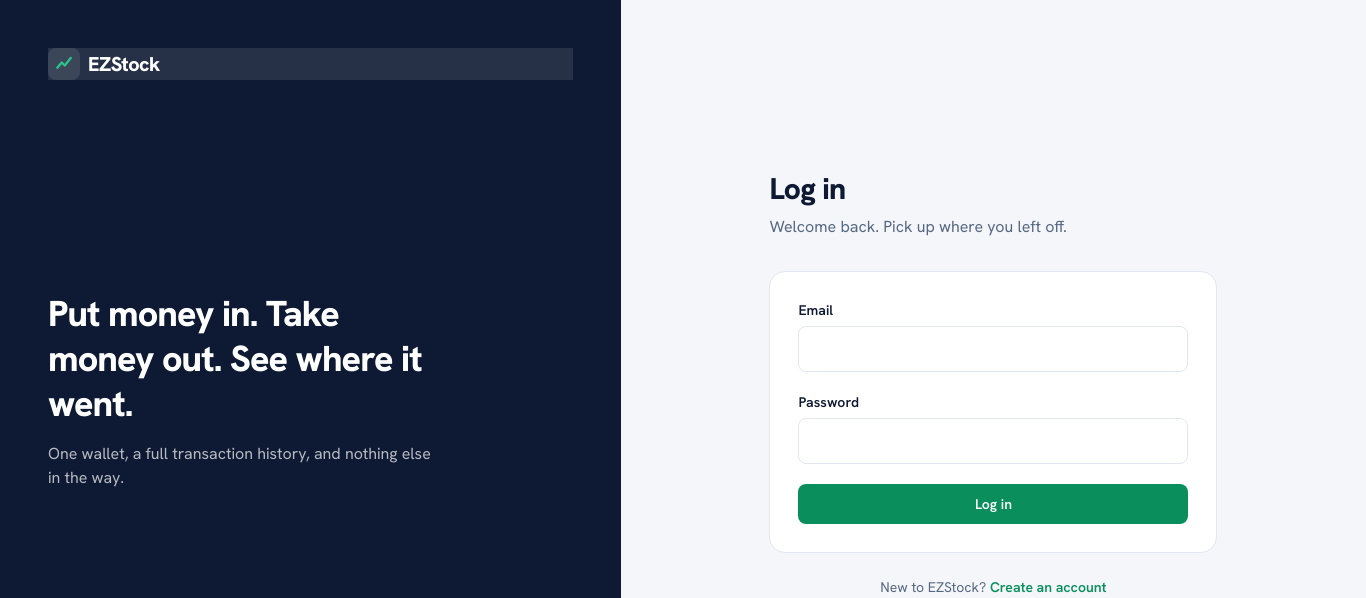
login › logs in, stores the token and lands on the dashboard
The image size is (1366, 598).
Type "trader@example.com" into the field labelled "Email" at (993, 349), box [798, 326, 1188, 372]
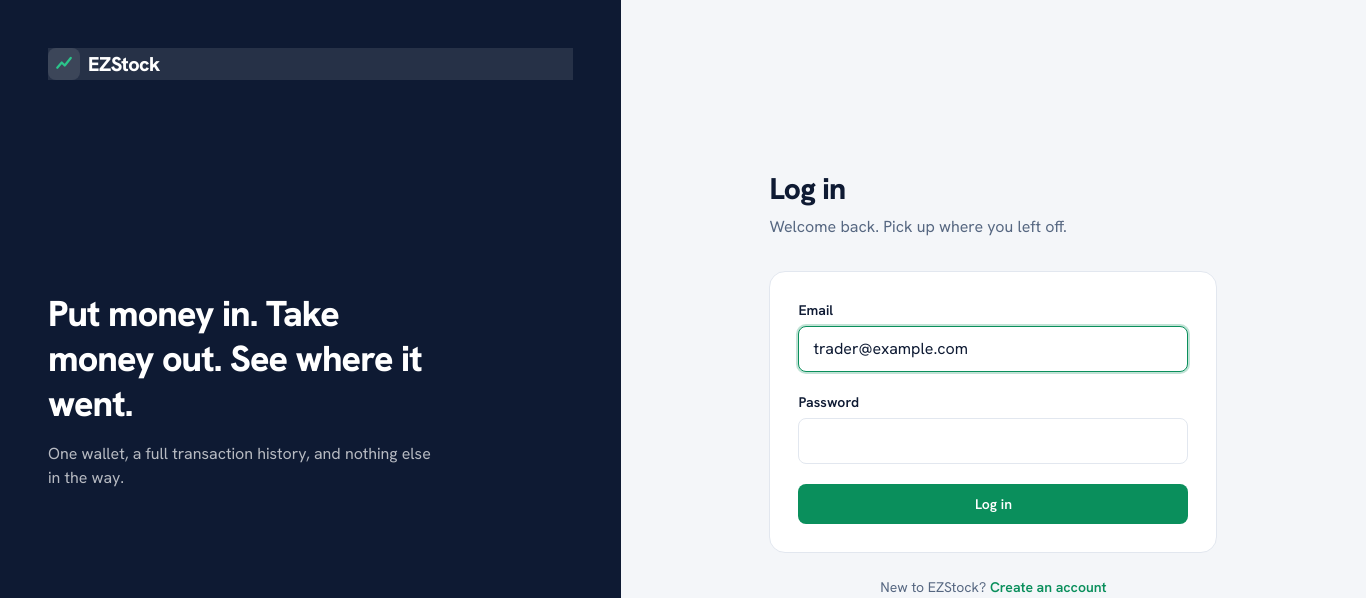
Type "password123" into the password field labelled "Password" at (993, 441), box [798, 418, 1188, 464]
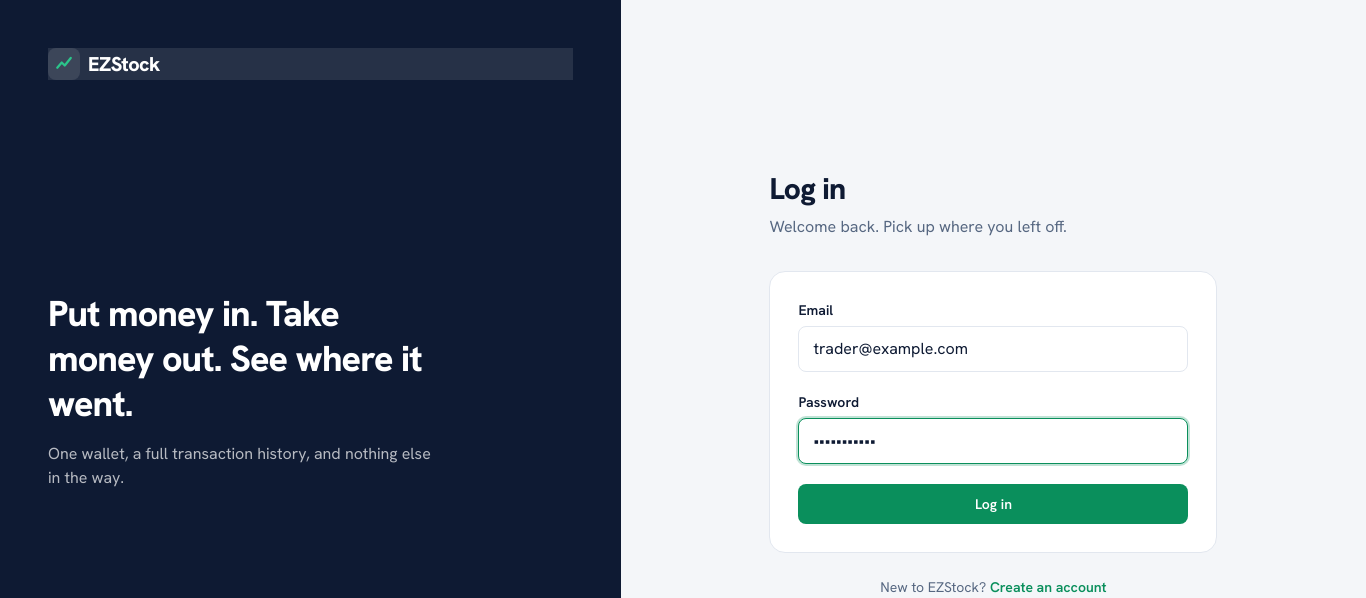
Click the button "Log in" at (993, 504), box [798, 484, 1188, 524]
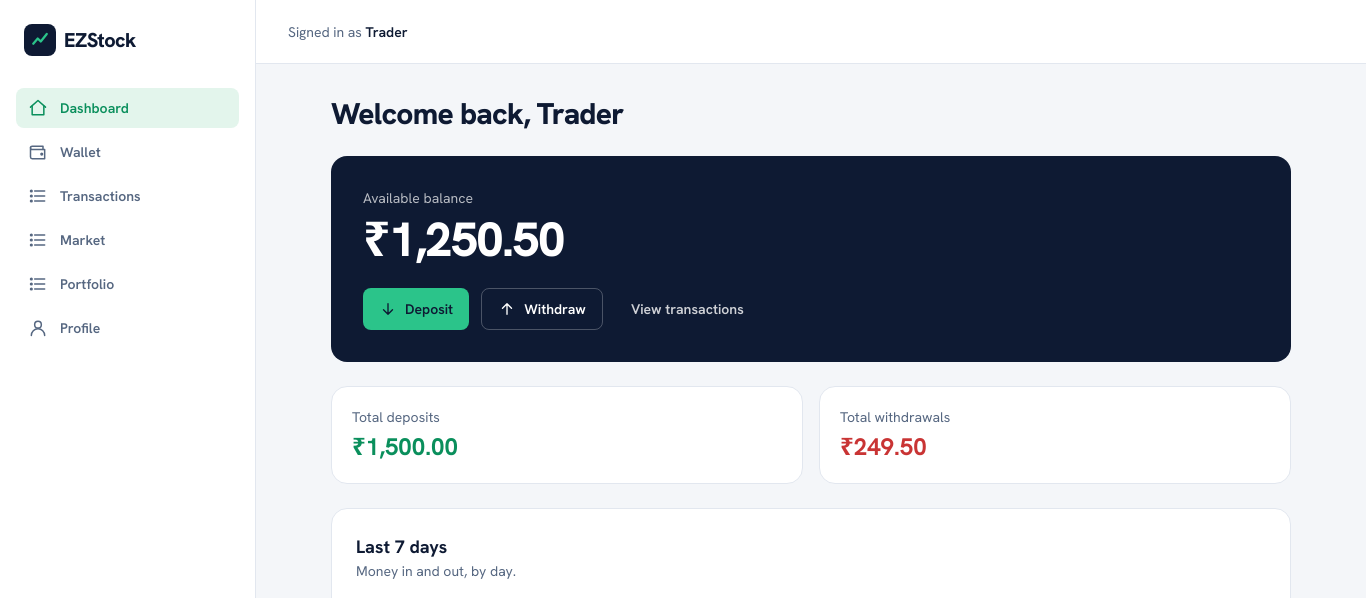
Now the heading "Welcome back, Trader" is shown, box [331, 94, 624, 133]
